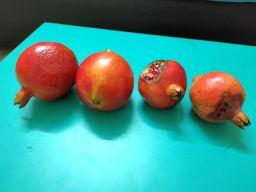pomegranate: (12, 41, 78, 109), (75, 49, 134, 111), (189, 71, 251, 130), (137, 59, 187, 109)
